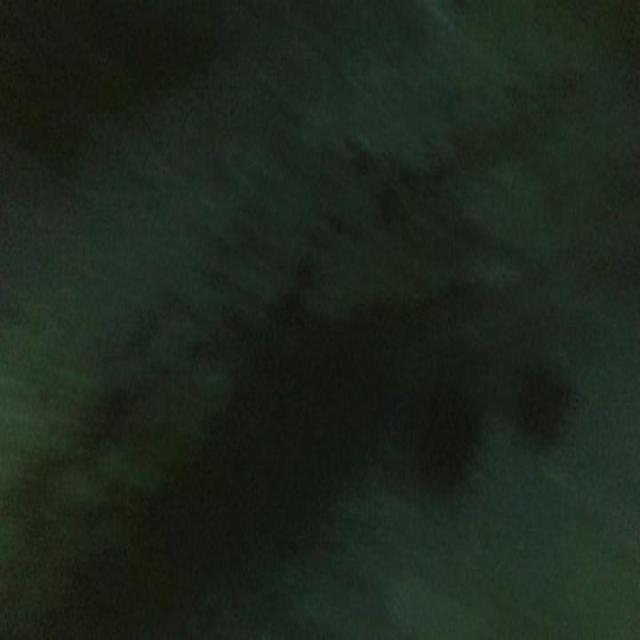echinus: (407, 365, 492, 507), (503, 348, 585, 460)
